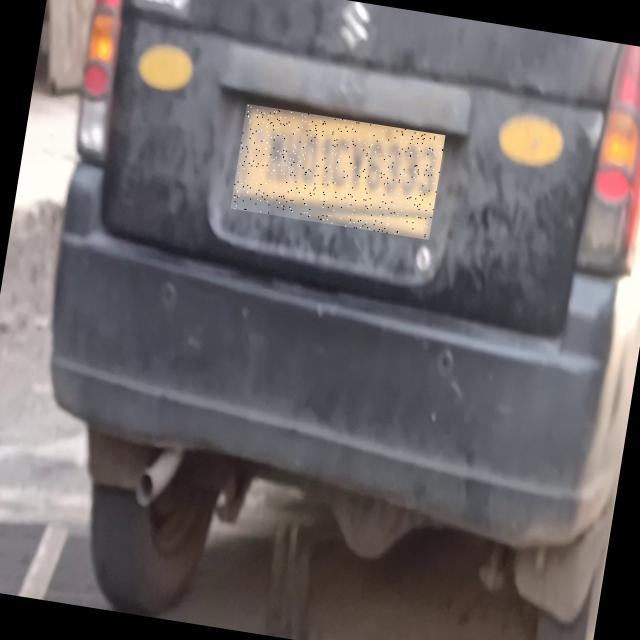Plate: (232, 105, 447, 241)
